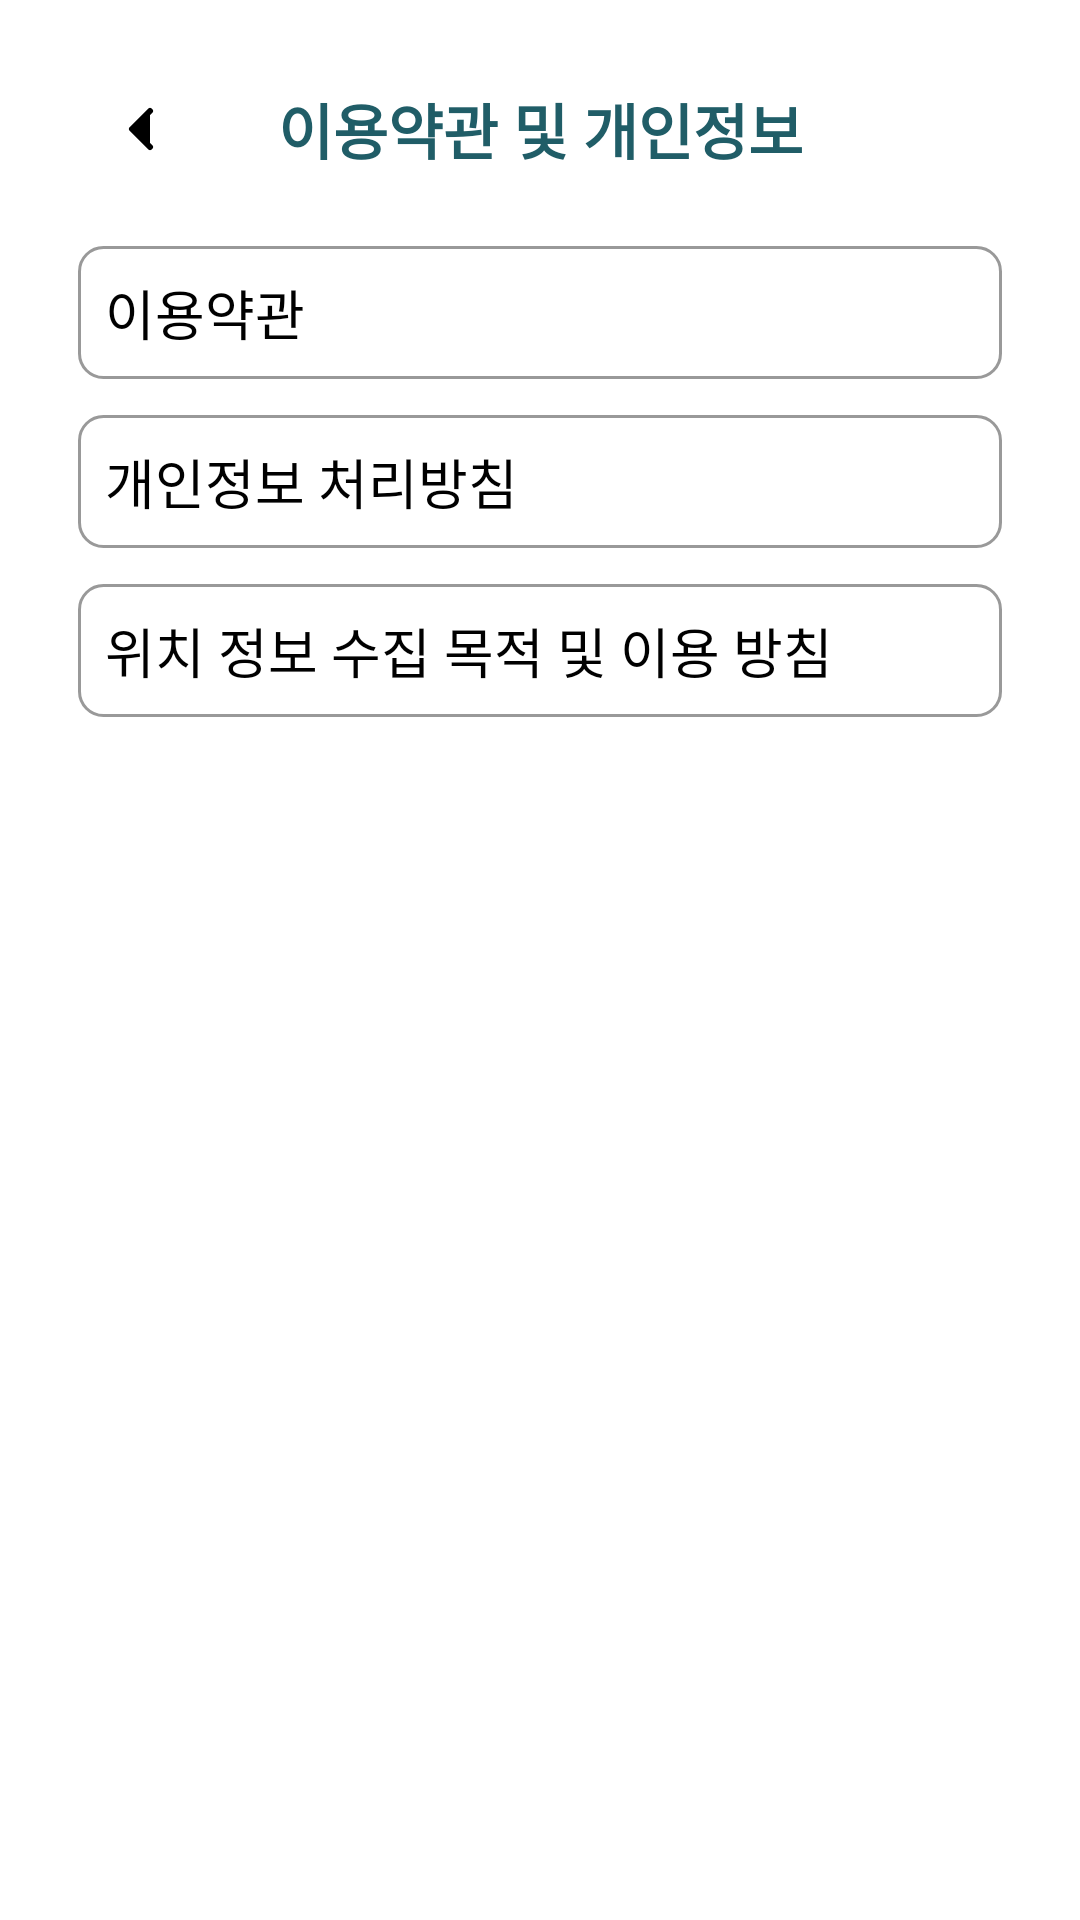

Named icons in this screenshot (1080*1920) and their bounding boxes, rect(x1, y1, x2, y2):
뒤로가기: rect(129, 108, 153, 150)
